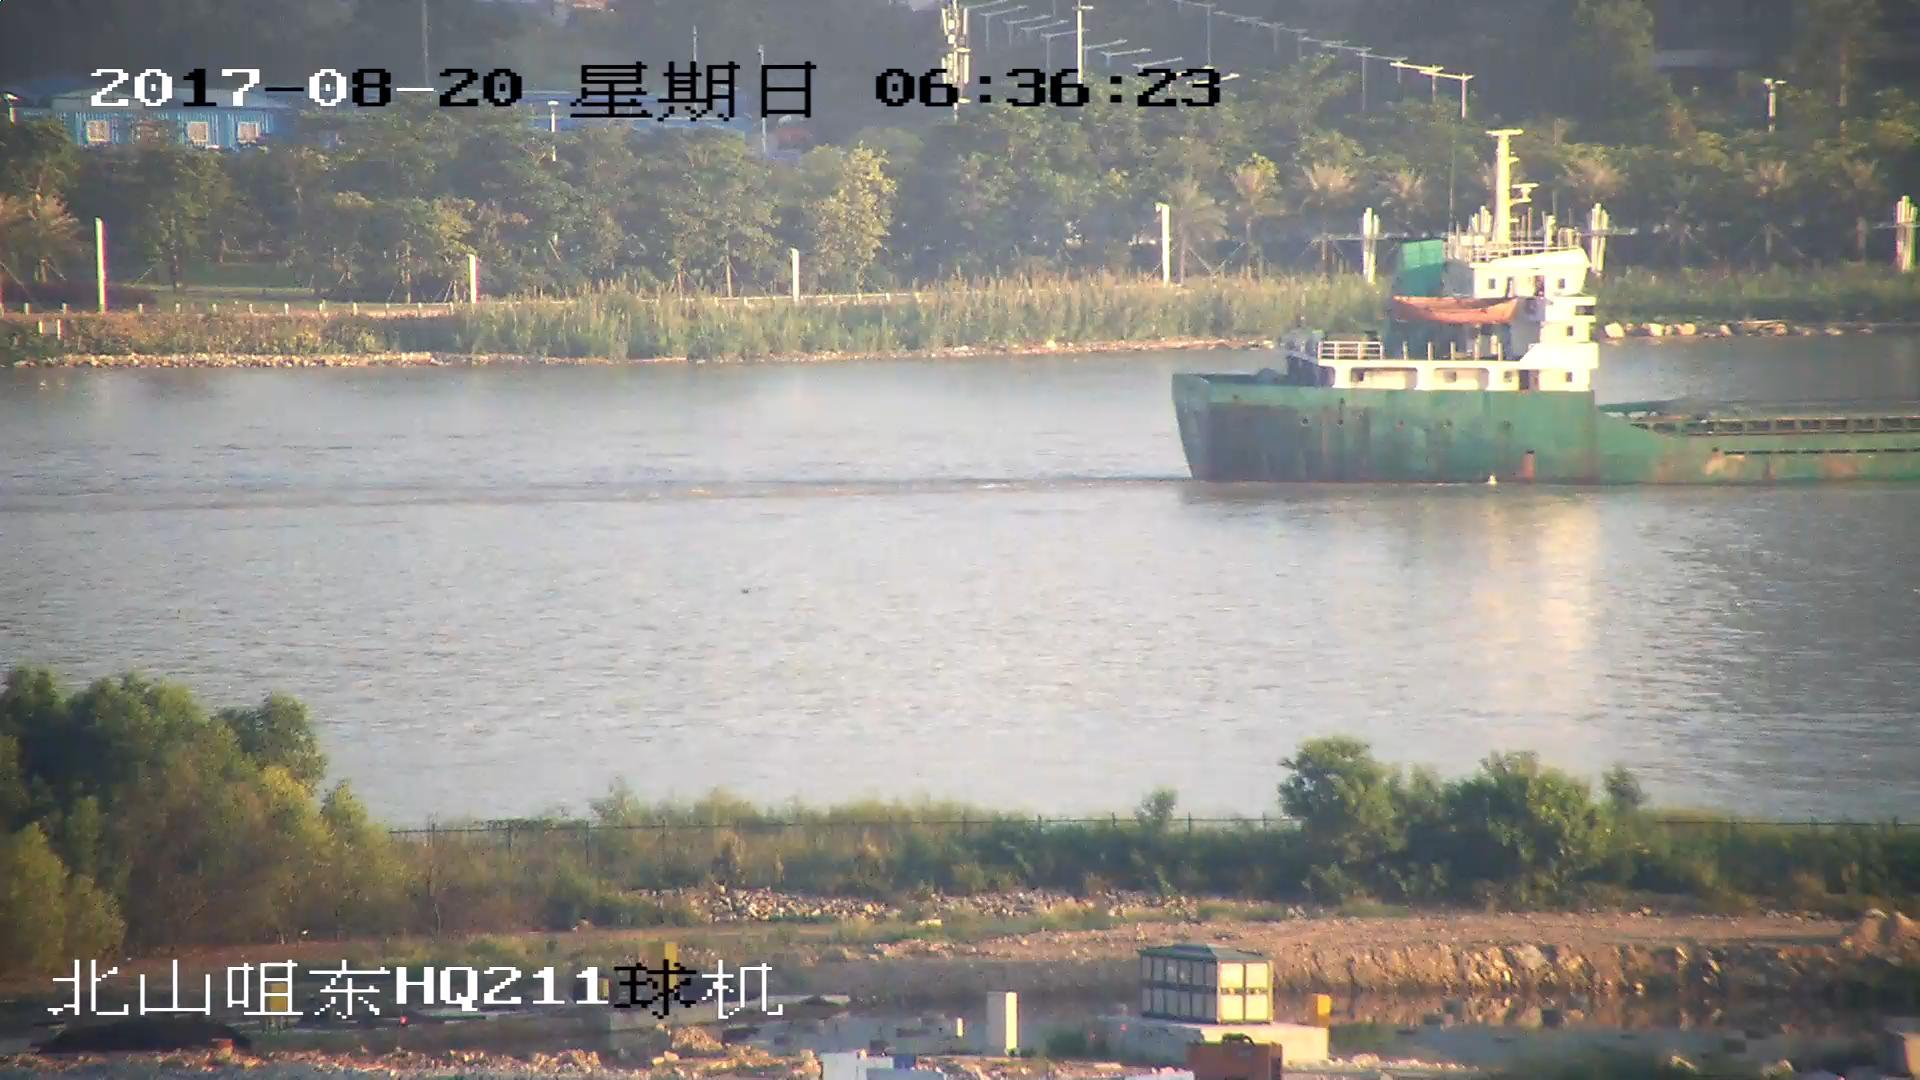Ship: (1189, 133, 1920, 483)
